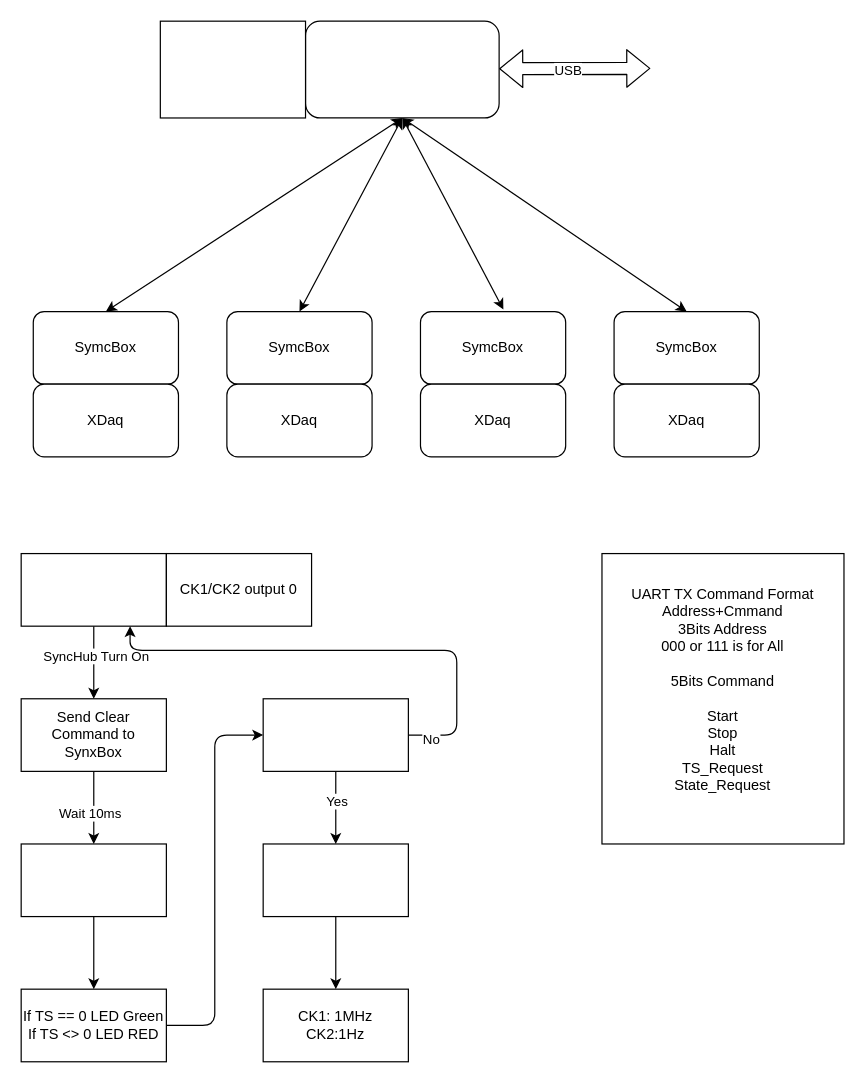
Image size: 865x1083. Some labels were removed from this diagram. The shapes that lost their labels are listed below. From the top down, each one's box as (x1, y1, x2, y2) in pixels, then its label:
(159, 20, 306, 118): On Btn 4+n LED
(304, 20, 499, 118): SyncHub
(20, 552, 166, 626): Power On
(262, 698, 408, 771): When All TS == 0
(20, 843, 166, 917): Poll TS Value of Each SynxBox
(262, 843, 408, 917): Send Start CMD
